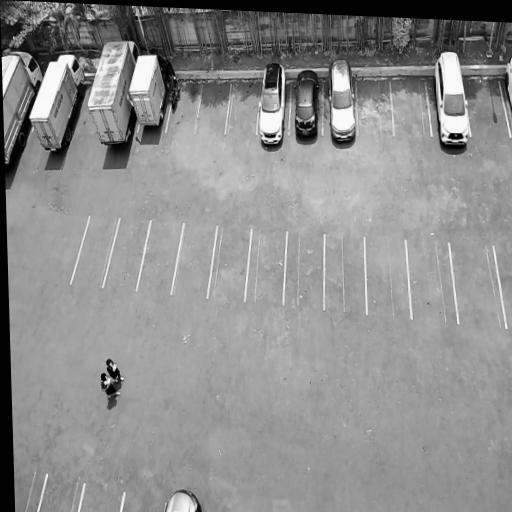Car: (27, 45, 88, 162), (1, 41, 49, 186), (84, 29, 139, 154), (432, 46, 472, 161), (127, 44, 174, 135), (255, 54, 290, 151), (324, 50, 357, 151), (290, 57, 323, 150), (161, 482, 206, 512), (502, 53, 512, 119)
Space Available: (450, 241, 506, 326), (405, 239, 456, 322), (365, 237, 411, 319), (71, 216, 120, 286), (324, 235, 366, 314), (102, 220, 149, 290), (172, 224, 216, 296), (138, 223, 183, 292), (284, 232, 324, 309), (463, 73, 510, 138), (245, 229, 285, 303), (209, 226, 250, 298), (389, 75, 432, 135), (356, 76, 394, 136), (225, 78, 260, 135), (196, 81, 230, 134), (39, 474, 84, 512), (494, 244, 512, 329), (78, 484, 124, 512), (121, 492, 165, 512)
